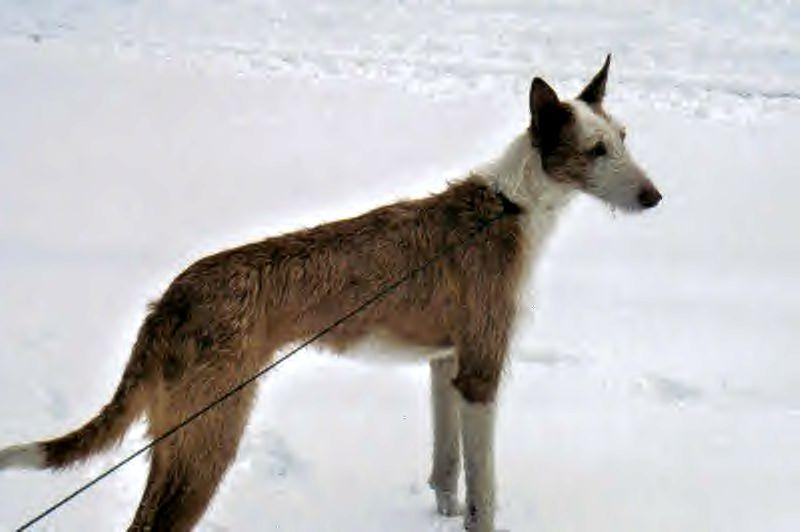Ibizan_hound: (0, 50, 661, 529)
